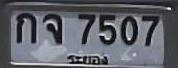0: (120, 15, 137, 44)
5: (98, 14, 115, 44)
7: (77, 13, 95, 44), (141, 15, 158, 45)
A01: (16, 12, 36, 43)
A08: (42, 13, 61, 43)
